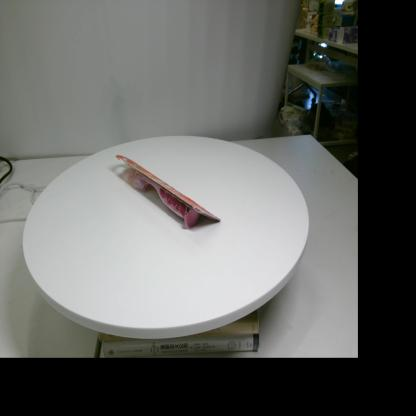Personal Hygiene: (115, 155, 221, 228)
